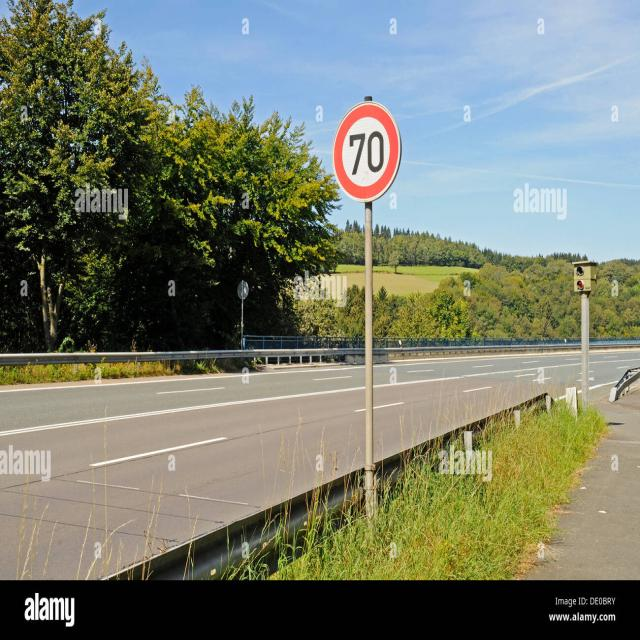speed_70: (330, 102, 402, 204)
